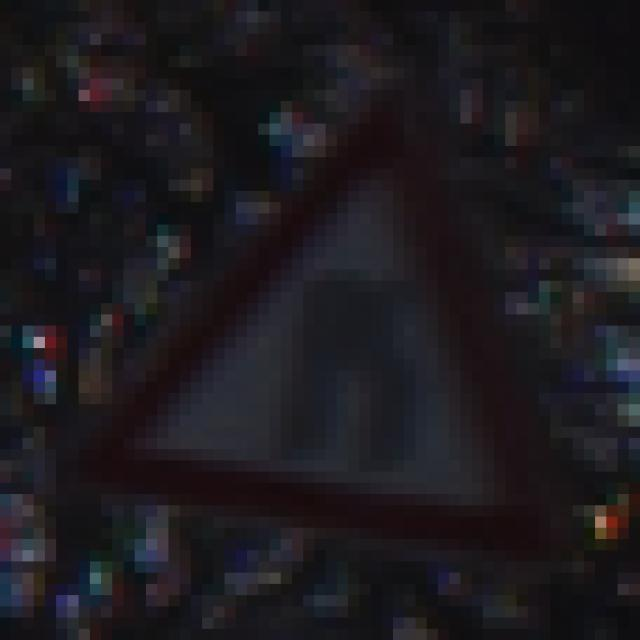narrow road ahead: (72, 73, 600, 579)
